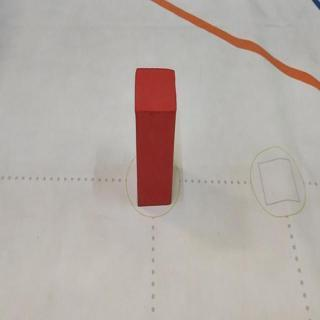redbox: (133, 67, 176, 208)
